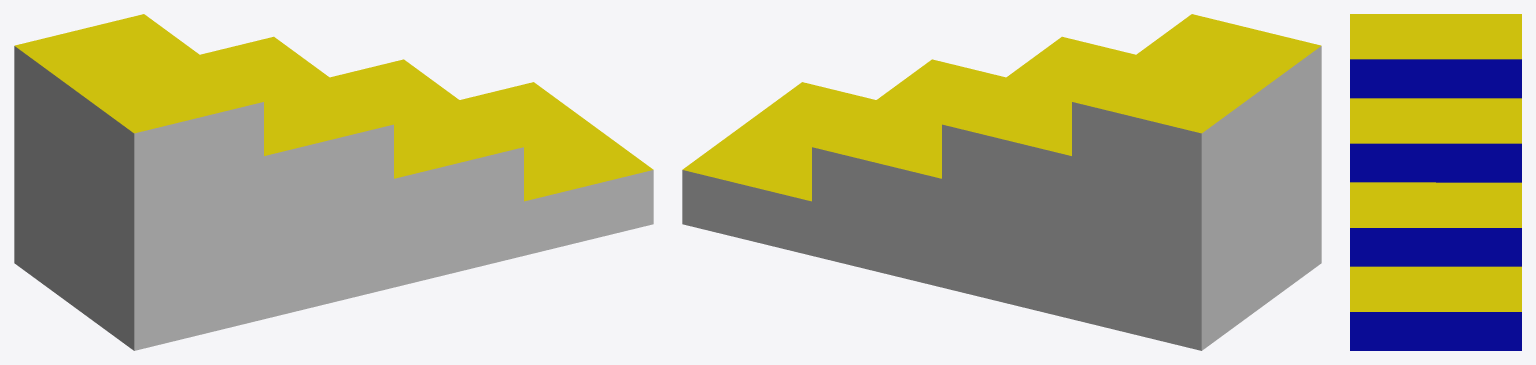
The model's file is StairCase.fbx.
3 renders of one model, left to right at view 1: azimuth 30°, elevation 25°; view 2: azimuth 150°, elevation 25°; view 3: azimuth 270°, elevation 25°, orthographic. The views are drawn at different scales.
Visible parts, largest first — view 1: StairCase; view 2: StairCase; view 3: StairCase.
Part boxes in pixels (box(x1,y1,x2,y2)): StairCase: box(14, 14, 653, 350); StairCase: box(682, 14, 1321, 350); StairCase: box(1350, 14, 1521, 350).
Bounding box in the file's own units: 1000 × 400 × 400.
